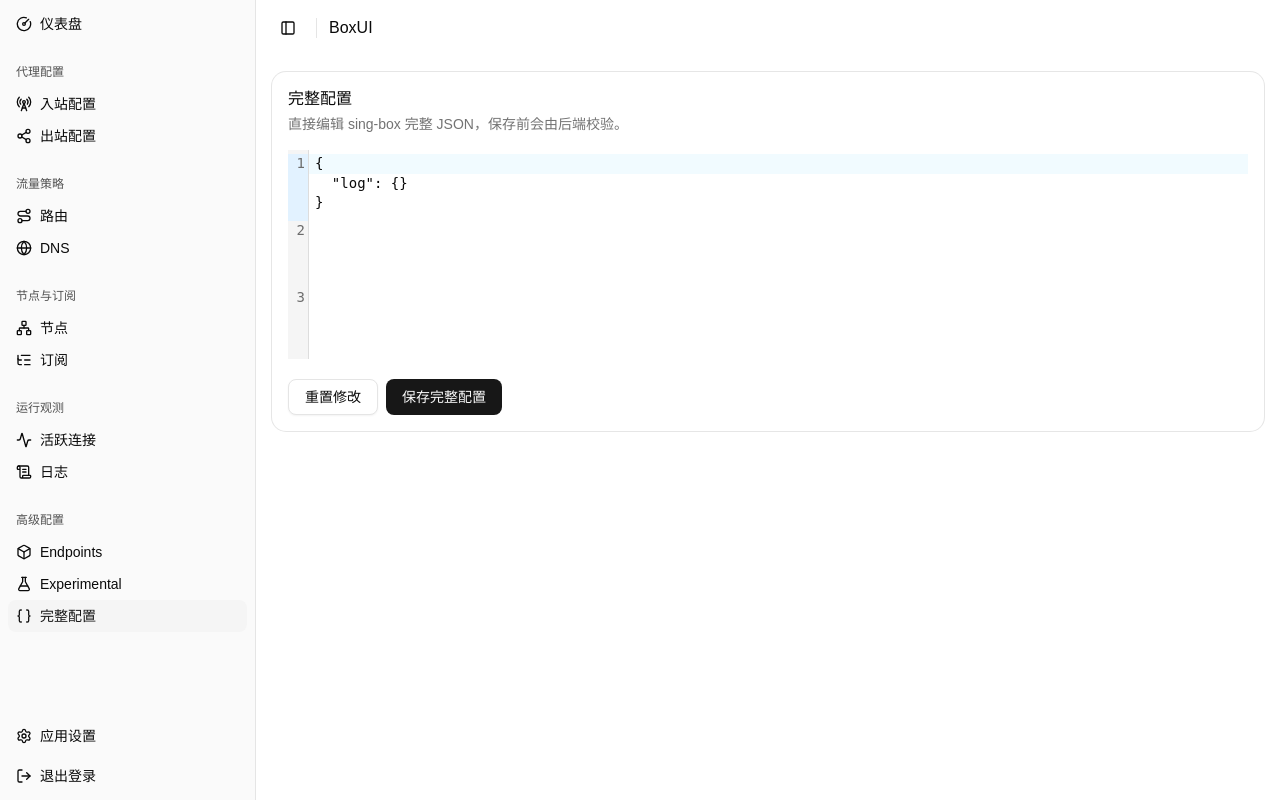
Test: advanced alternate states › reports raw configuration save errors
Click the button "保存完整配置". click: (444, 397)
box: x1=386 y1=379 x2=502 y2=415
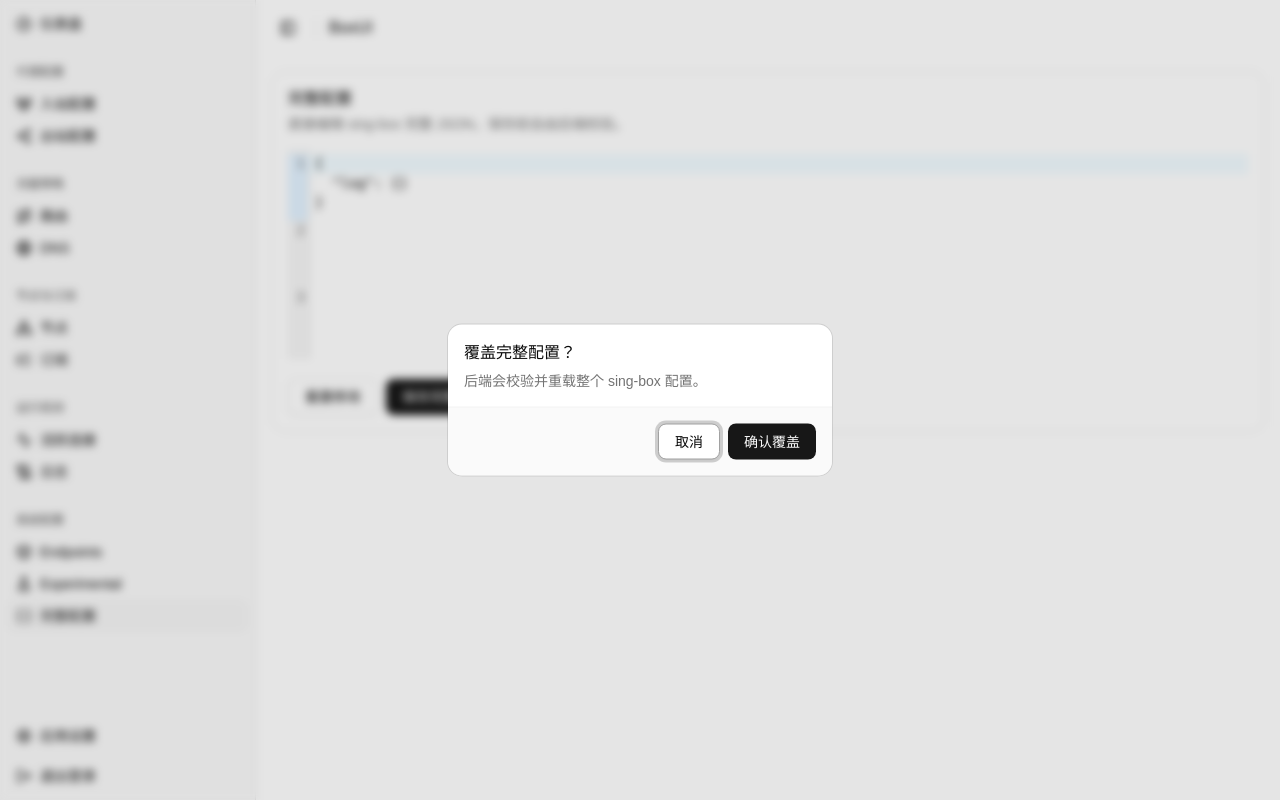
Click the button "确认覆盖". click: (772, 442)
box: x1=728 y1=424 x2=816 y2=460
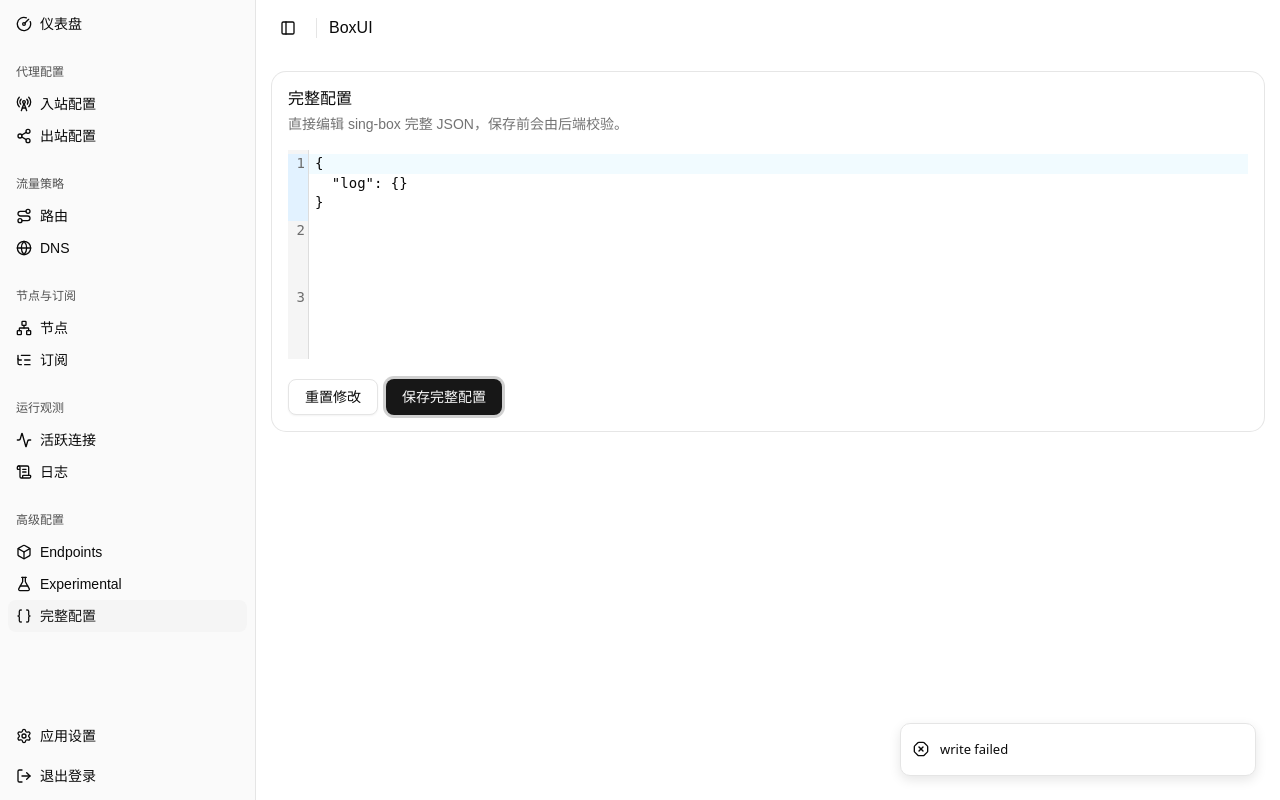
Result: the text "write failed" is shown at x1=940 y1=740 x2=1008 y2=759
